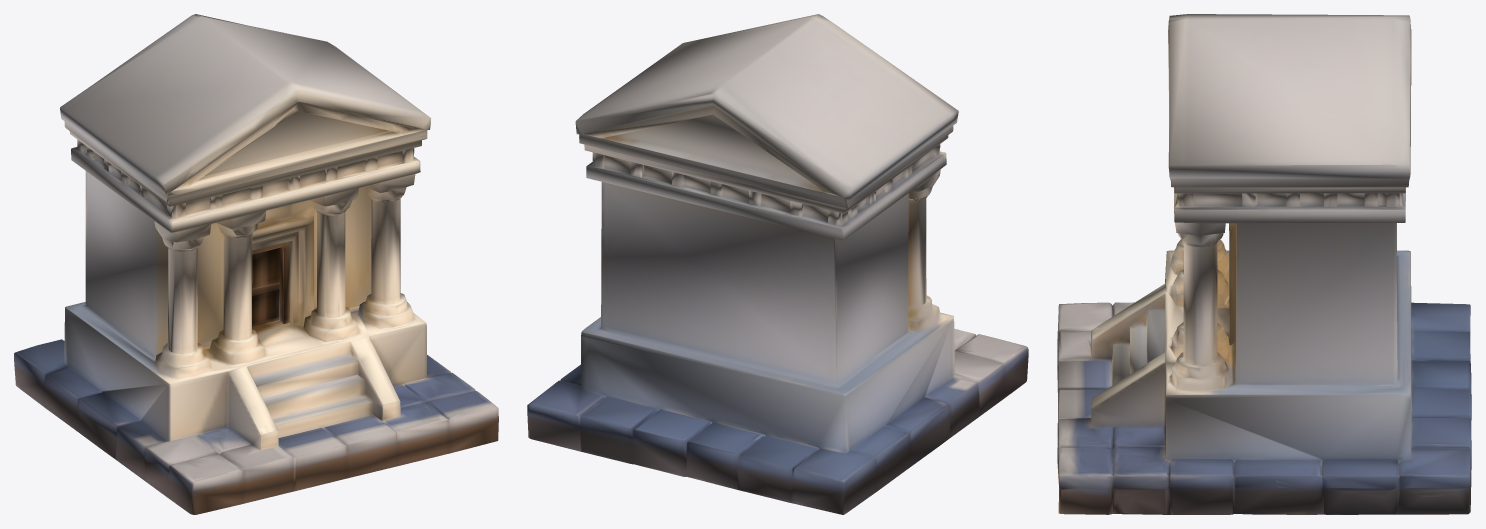
The model's file is borsa.glb.
The picture shows the model from 3 angles, left to right: view 1: azimuth 30°, elevation 25°; view 2: azimuth 150°, elevation 25°; view 3: azimuth 270°, elevation 25°; orthographic projection. The views are drawn at different scales.
Parts seen in each view (by area): view 1: node_0; view 2: node_0; view 3: node_0.
Part boxes in pixels (x1,y1,x2,y2): node_0: (14,14,498,514); node_0: (527,14,1028,514); node_0: (1057,14,1471,514).
Bounding box in the file's own units: 0.6742 × 0.7424 × 0.6795.
Materials: 1 (1 with a texture image).
